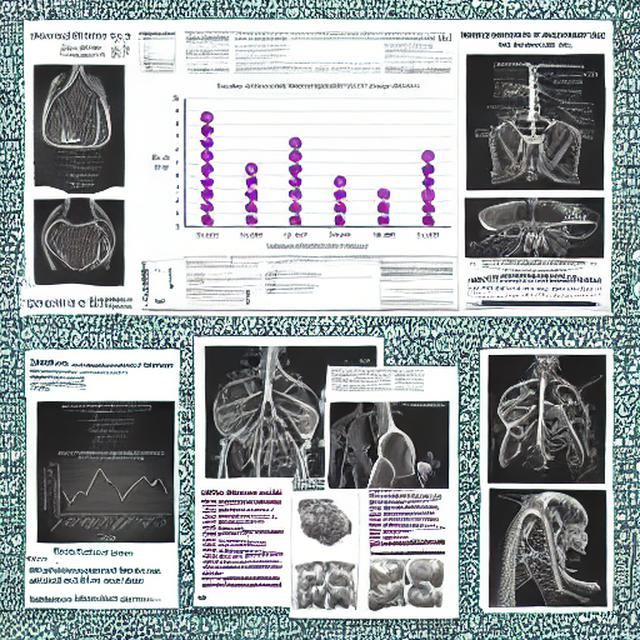Graph: (143, 78, 459, 254), (40, 447, 174, 543)
